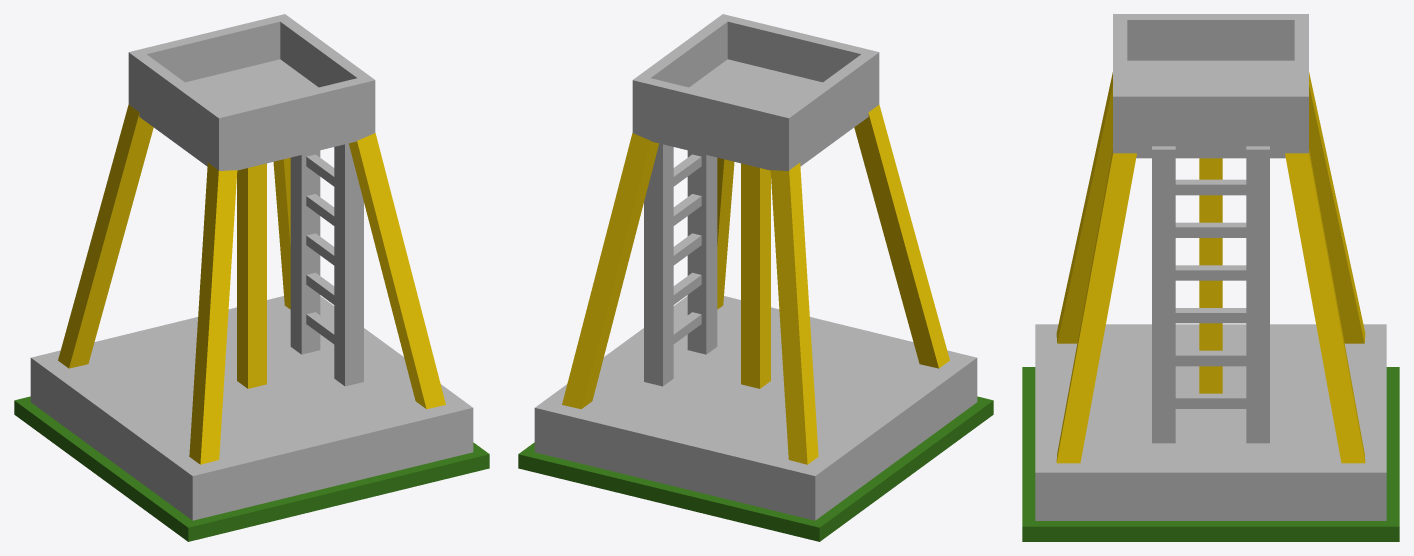
The model's file is lvl22.glb.
The picture shows the model from 3 angles, left to right: view 1: azimuth 30°, elevation 25°; view 2: azimuth 150°, elevation 25°; view 3: azimuth 270°, elevation 25°; orthographic projection. The views are drawn at different scales.
Visible parts, largest first — view 1: Plane.021; view 2: Plane.021; view 3: Plane.021.
Part boxes in pixels (box(x1,y1,x2,y2)): Plane.021: box(14, 14, 489, 541); Plane.021: box(518, 14, 993, 541); Plane.021: box(1022, 14, 1399, 541).
Bounding box in the file's own units: 4 × 4.76 × 4.
